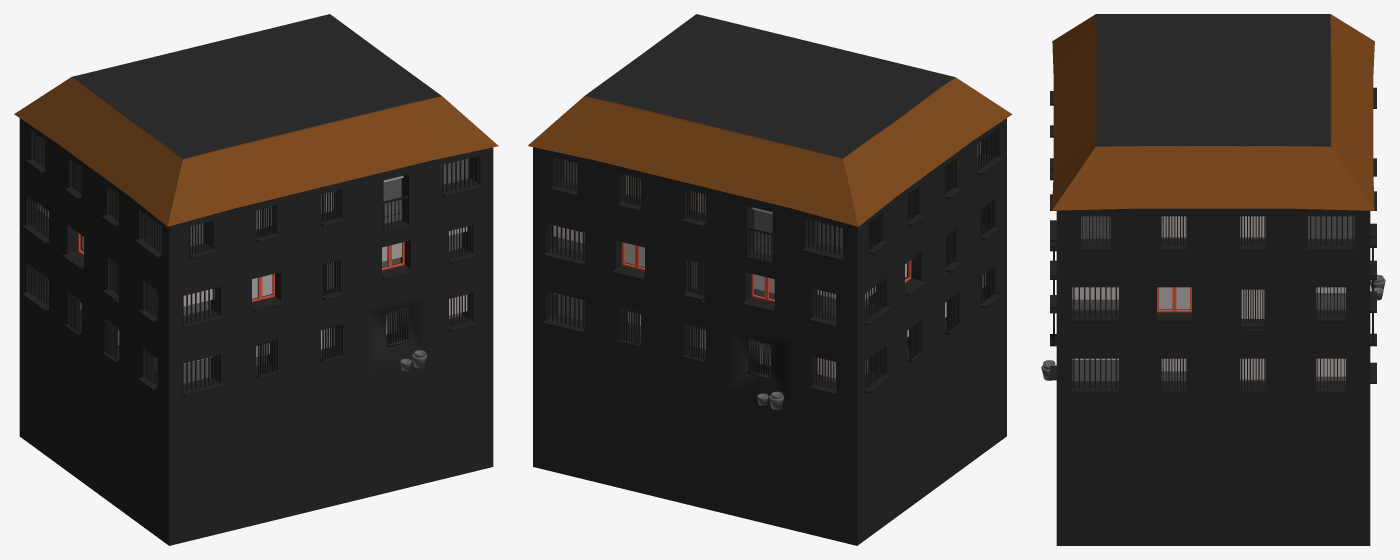
File: casa procedural_relleno_Con sotano_7.fbx
3 views of the same model, side by side, from view 1: azimuth 30°, elevation 25°; view 2: azimuth 150°, elevation 25°; view 3: azimuth 270°, elevation 25° (orthographic). The views are drawn at different scales.
Parts seen in each view (by area): view 1: Procedural_Building_straight.001; view 2: Procedural_Building_straight.001; view 3: Procedural_Building_straight.001.
Boxes of the visible parts, x1=… form: Procedural_Building_straight.001: x1=14, y1=14, x2=498, y2=545; Procedural_Building_straight.001: x1=528, y1=14, x2=1012, y2=545; Procedural_Building_straight.001: x1=1041, y1=14, x2=1385, y2=545.
Bounding box in the file's own units: 516 × 538 × 438.
